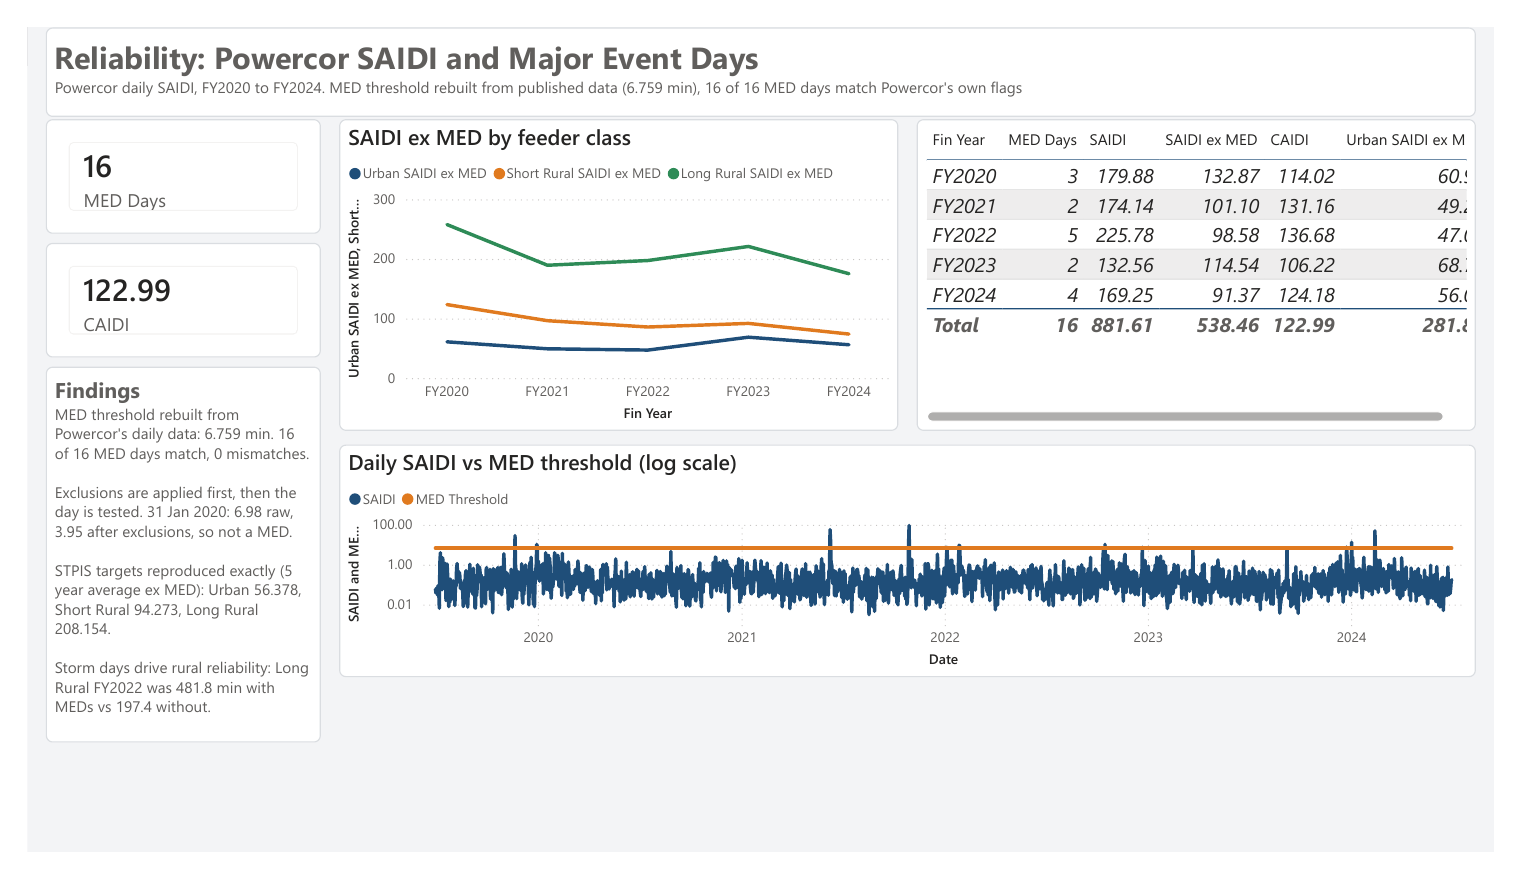

This screenshot's page, from the dashboard's own definition file:
{"tool":"powerbi","page":{"name":"Reliability","canvas":[1280,720],"ordinal":1},"visuals":[{"type":"tableEx","fields":{"Values":["Date.Fin Year","Powercor Daily.MED Days","Powercor Daily.SAIDI","Powercor Daily.SAIDI ex MED","Powercor Daily.CAIDI","Powercor Daily.Urban SAIDI ex MED"]},"box":[776,80,488,272],"z":0},{"type":"lineChart","title":"SAIDI ex MED by feeder class\t","fields":{"Category":["Date.Fin Year"],"Y":["Powercor Daily.Urban SAIDI ex MED","Powercor Daily.Short Rural SAIDI ex MED","Powercor Daily.Long Rural SAIDI ex MED"]},"box":[272,80,488,272],"z":1},{"type":"lineChart","title":"Daily SAIDI vs MED threshold (log scale)\t","fields":{"Category":["Date.Date"],"Y":["Powercor Daily.SAIDI","Powercor Daily.MED Threshold"]},"box":[272,364,992,203],"z":2},{"type":"cardVisual","fields":{"Data":["Powercor Daily.MED Days"]},"box":[16,80,240,100],"z":3},{"type":"cardVisual","fields":{"Data":["Powercor Daily.CAIDI"]},"box":[16,188,240,100],"z":4},{"type":"textbox","box":[16,0,1248,78],"z":5},{"type":"textbox","box":[16,296,240,328],"z":6}]}

Visuals, with their boxes in screenshot pixels (x1, y1, x2, y2), scaled from the page's 1280x720 canvas onto the 1522x880 screenshot:
tableEx - Date.Fin Year x Powercor Daily.MED Days: l=923, t=98, r=1503, b=430
"SAIDI ex MED by feeder class	" lineChart: l=323, t=98, r=904, b=430
"Daily SAIDI vs MED threshold (log scale)	" lineChart: l=323, t=445, r=1503, b=693
cardVisual - Powercor Daily.MED Days: l=19, t=98, r=304, b=220
cardVisual - Powercor Daily.CAIDI: l=19, t=230, r=304, b=352
textbox: l=19, t=0, r=1503, b=95
textbox: l=19, t=362, r=304, b=763
